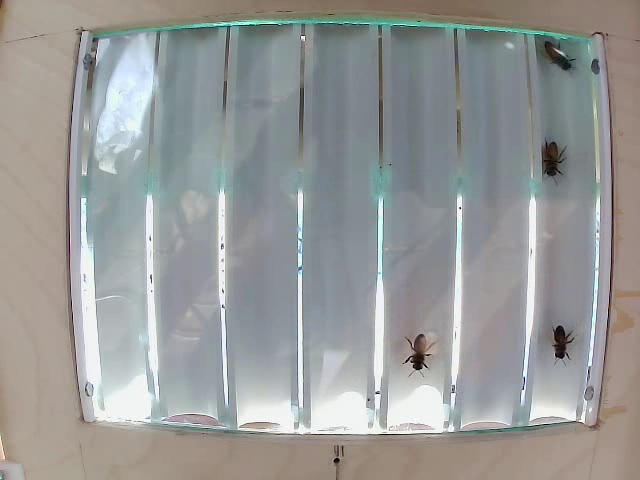bee: (552, 29, 586, 123), (389, 338, 444, 386), (539, 314, 567, 363), (548, 150, 568, 192)
